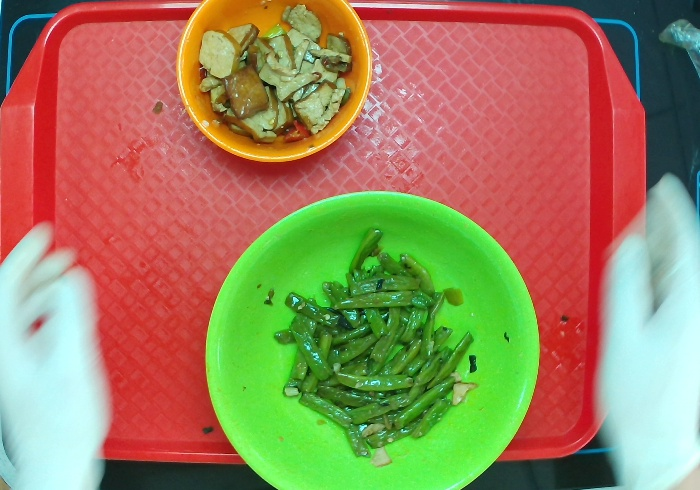YKMZ-Ju_Se_Yuan_Wan: (172, 1, 377, 170)
YKMZ-Lv_Se_Tang_Wan: (198, 187, 546, 490)
